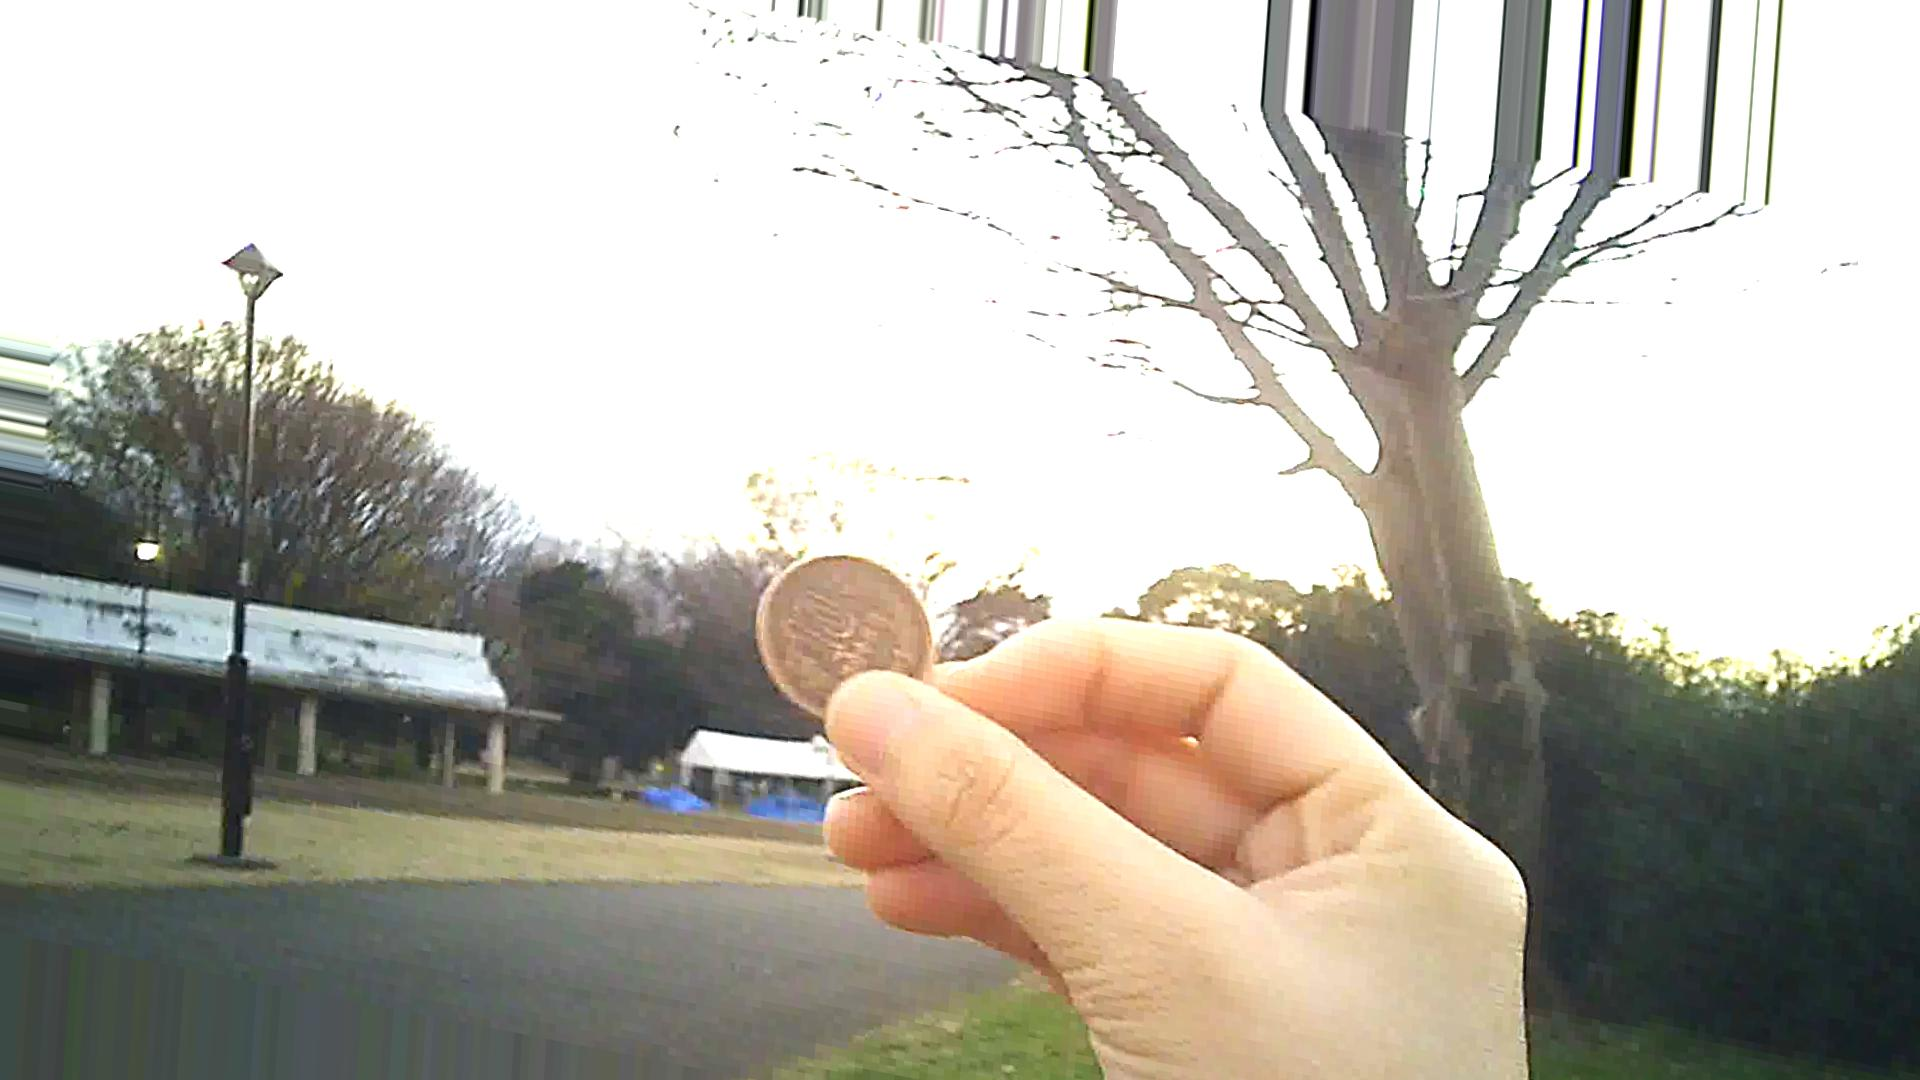10 Yen: (757, 549, 924, 717)
